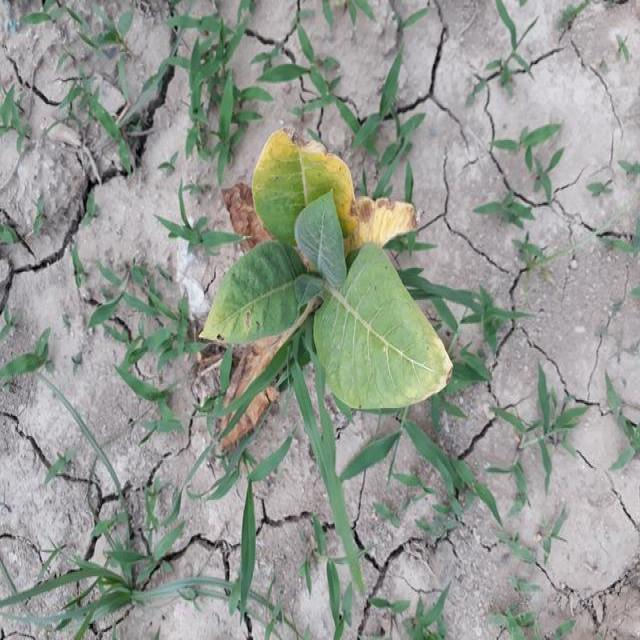crop: (198, 123, 456, 412)
